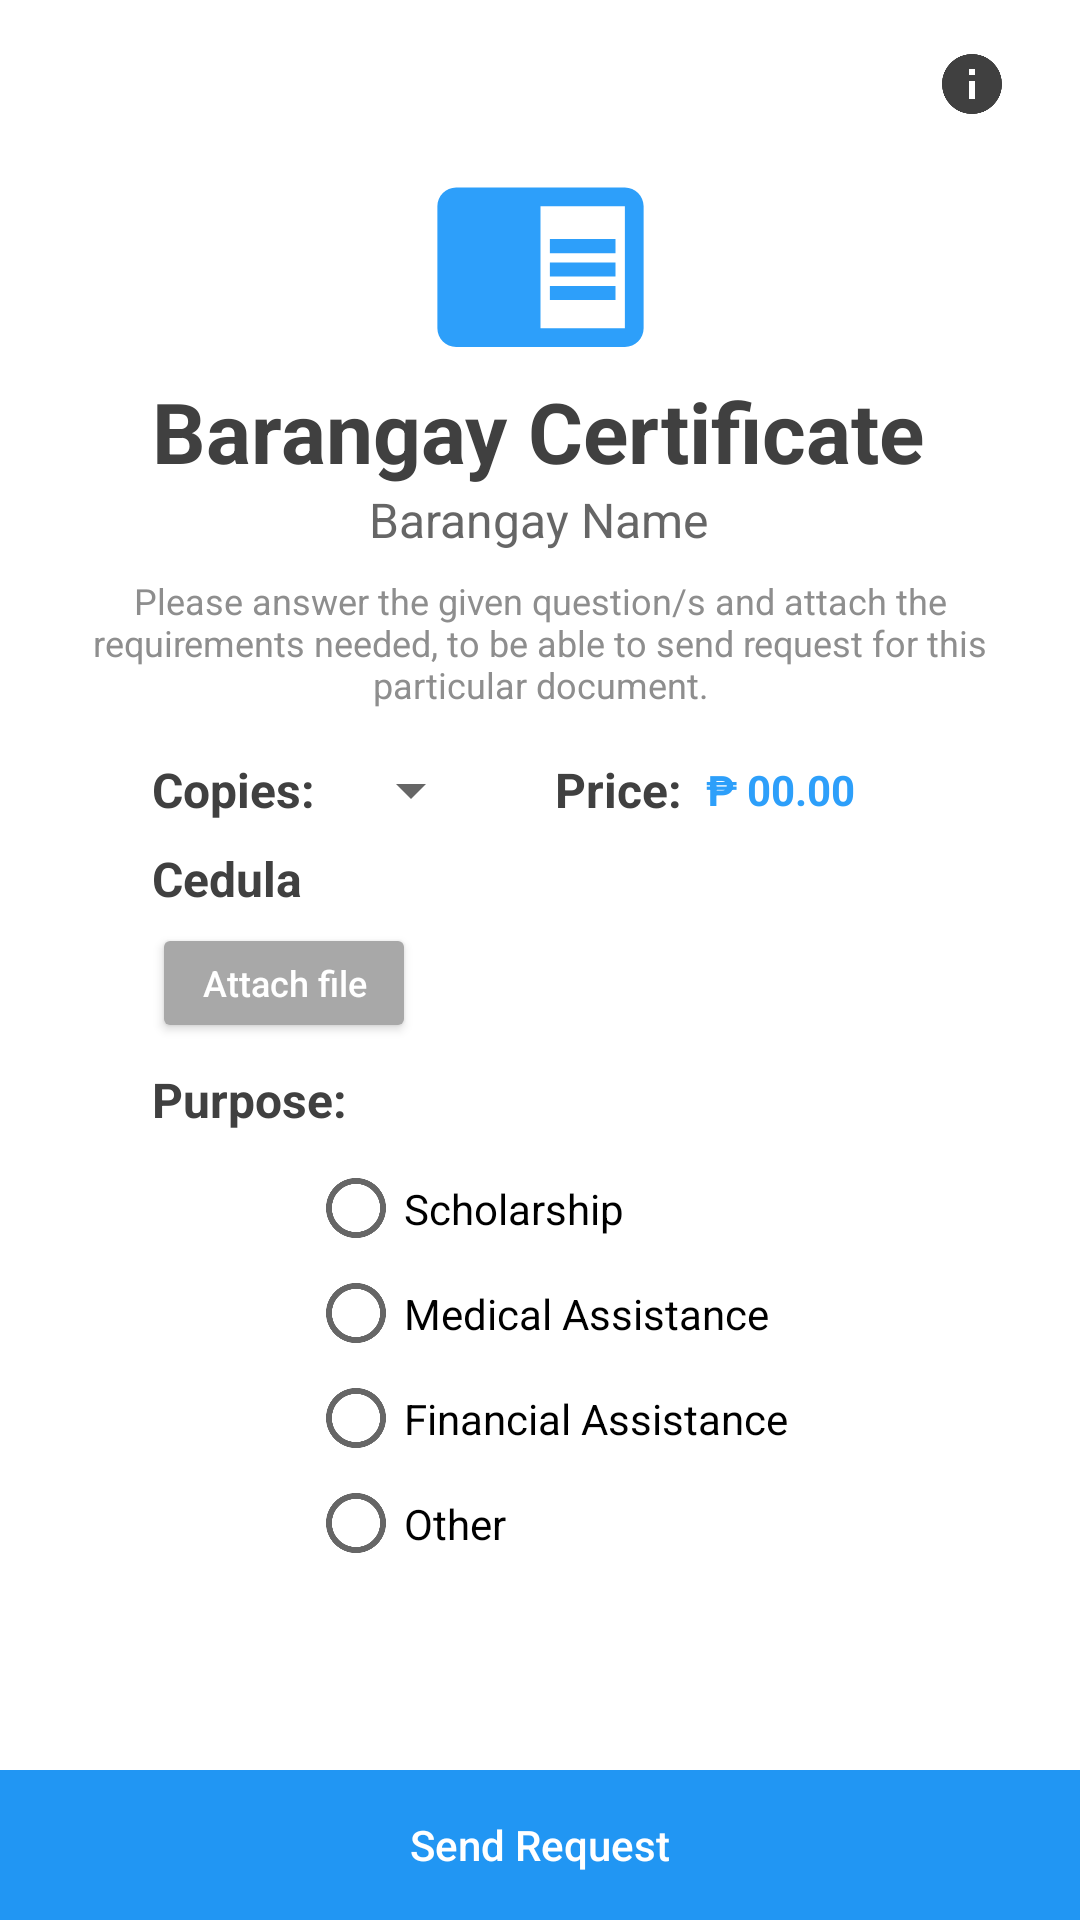

Point at icon controls on the screen. Image size 1080 × 1920, points as (x=x, y=y).
chrome reader mode: (x=540, y=267)
info: (x=972, y=84)
